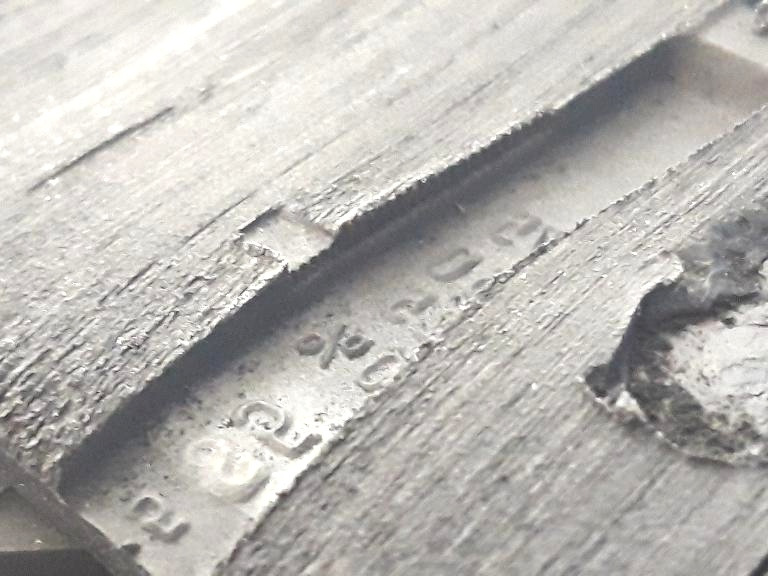temoin:0: (225, 176, 372, 301)
